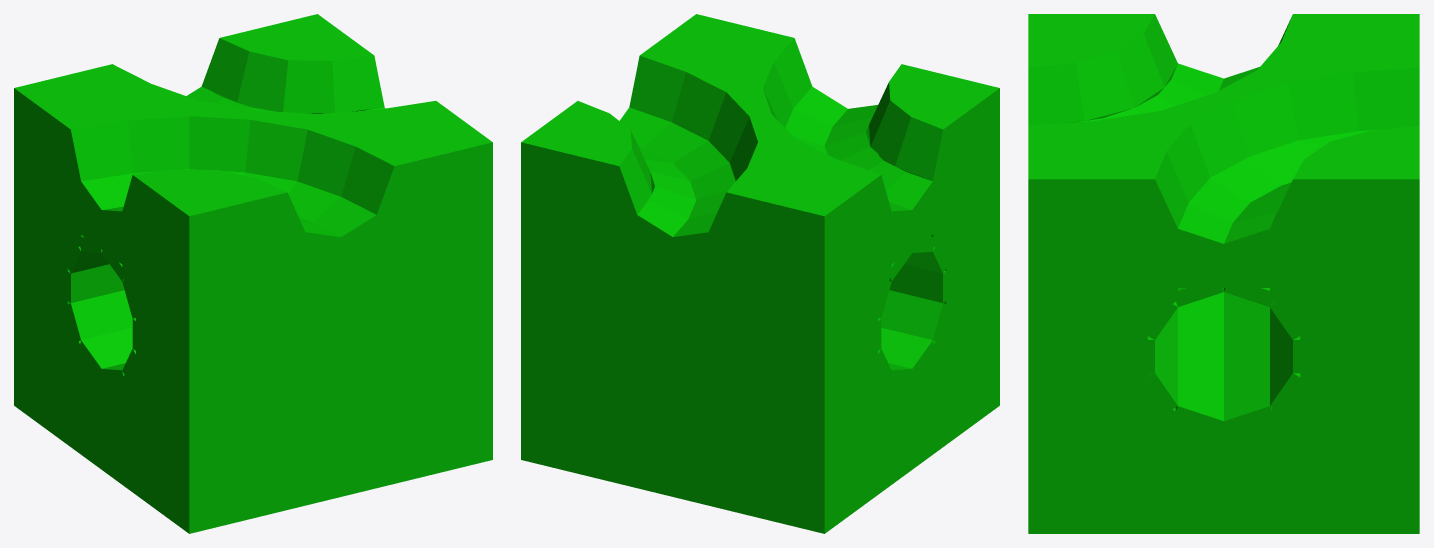
Rendered from UCXKugelbahn.13.fbx.
The picture shows the model from 3 angles, left to right: view 1: azimuth 30°, elevation 25°; view 2: azimuth 150°, elevation 25°; view 3: azimuth 270°, elevation 25°; orthographic projection. The views are drawn at different scales.
Parts seen in each view (by area): view 1: UCX_Kugelbahn.13_low; view 2: UCX_Kugelbahn.13_low; view 3: UCX_Kugelbahn.13_low.
Boxes of the visible parts, x1,y1,x2,y2 form: UCX_Kugelbahn.13_low: (14,14,492,533); UCX_Kugelbahn.13_low: (521,14,999,533); UCX_Kugelbahn.13_low: (1028,14,1419,533).
Size of the model in its own units: 0.05 by 0.05 by 0.05.
